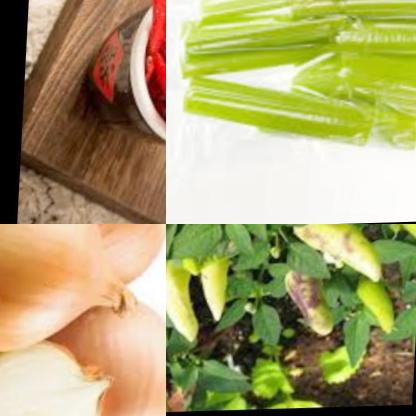celery: (166, 0, 416, 159)
hot pepper: (281, 224, 395, 295), (281, 269, 342, 346), (166, 257, 216, 349), (354, 271, 406, 340), (201, 254, 236, 326), (369, 224, 416, 246), (177, 255, 206, 288)
onion: (0, 224, 153, 365), (0, 224, 166, 297), (74, 289, 166, 416), (0, 336, 127, 416)
